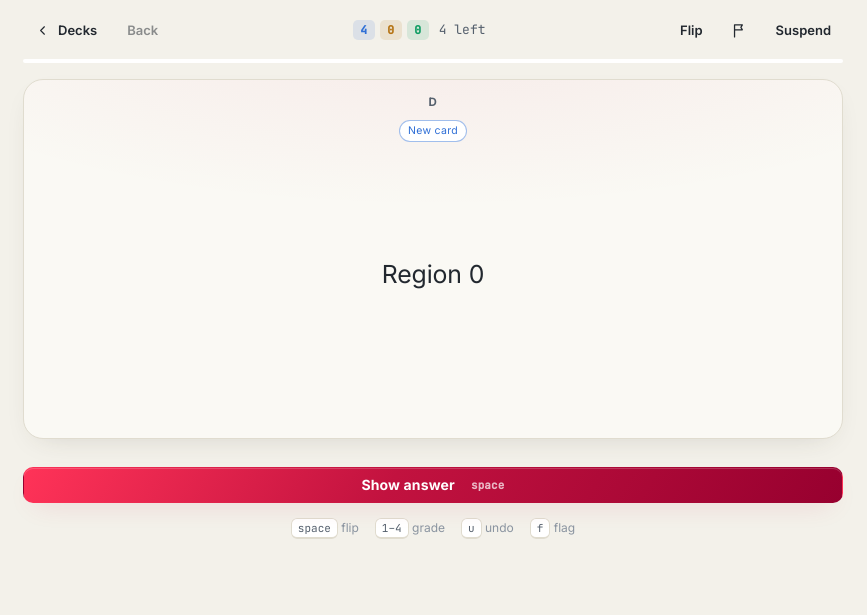
Test case: sibling cards are held back › the other regions of the same diagram do not come up this session
Expected: the text "Region 0" is shown, [382,259,484,289]
Click the button "Show answer space": (433, 485) [23,467,843,503]
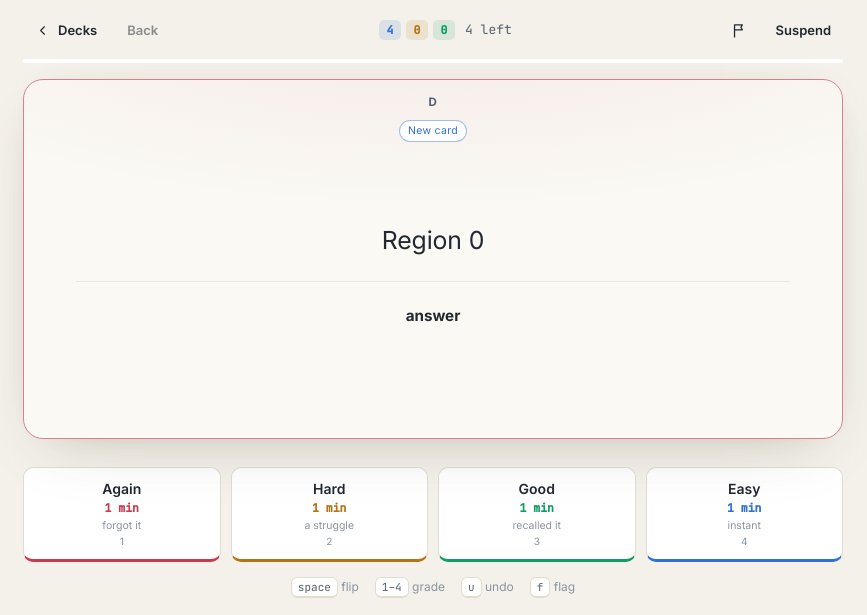
Click the text "Good": (537, 488) [519,480,555,497]
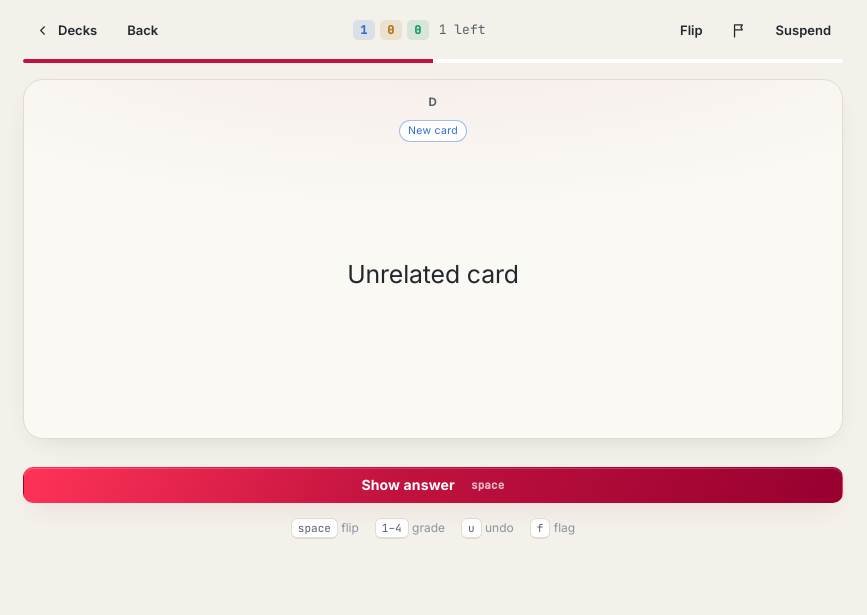
Expected: the text "Unrelated card" is shown, [347,259,519,289]
